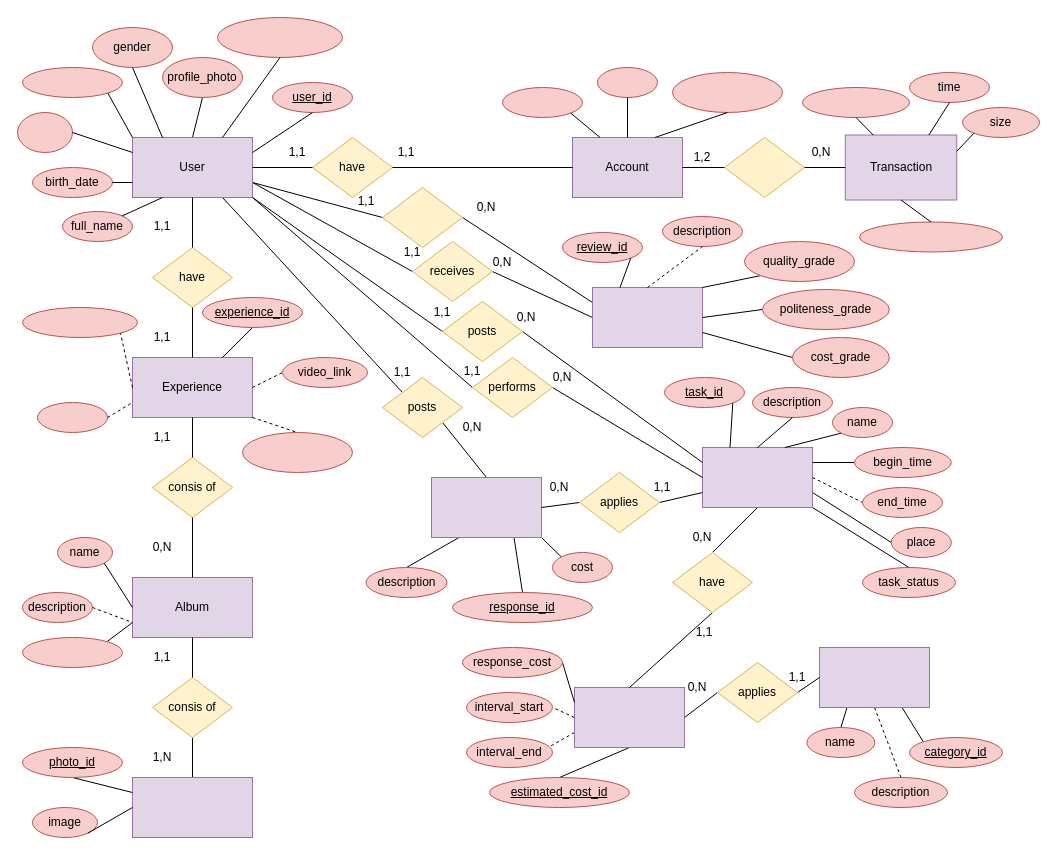
Image size: 1057x855. Some labels were removed from this diagram. The centre of each missing label's shape, as x and y in pixels:
"about" belongs at point (72, 417).
"account_id" belongs at point (542, 102).
"album_id" belongs at point (72, 652).
"business_status" belongs at point (297, 452).
"Category" belongs at point (874, 677).
"documents_checked" belongs at point (279, 37).
"email" belongs at point (44, 132).
"Estimated Cost" belongs at point (629, 717).
"experience_age" belongs at point (80, 322).
"impact" belongs at point (764, 167).
"is_blocked" belongs at point (727, 92).
"phone_number" belongs at point (72, 82).
"Photo" belongs at point (192, 807).
"Response" belongs at point (486, 507).
"Review" belongs at point (647, 317).
"state" belongs at point (627, 82).
"Task" belongs at point (757, 477).
"transaction_id" belongs at point (856, 102).
"transaction_status" belongs at point (930, 236).
"writes" belongs at point (422, 217).
